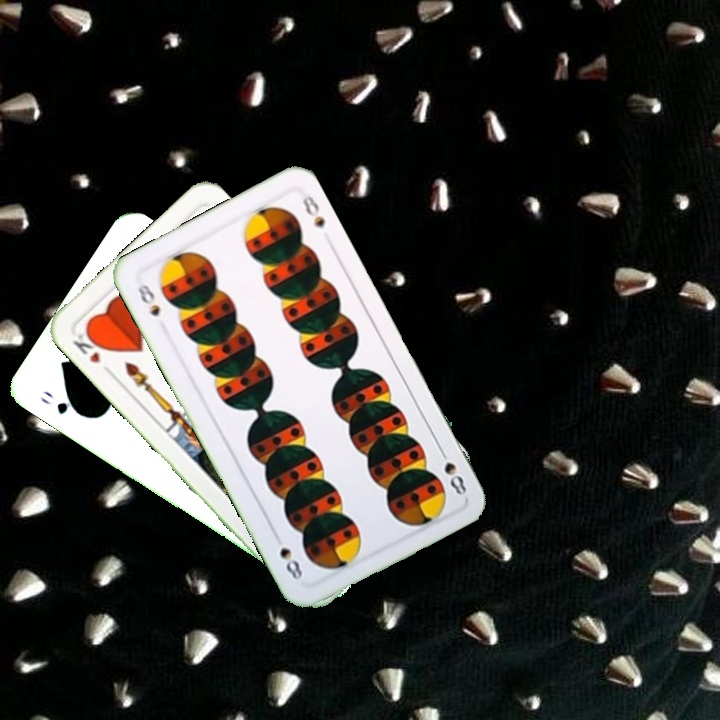GO: (36, 386, 87, 420)
HK: (68, 326, 107, 367)
S8: (434, 443, 470, 498), (133, 280, 163, 320)
